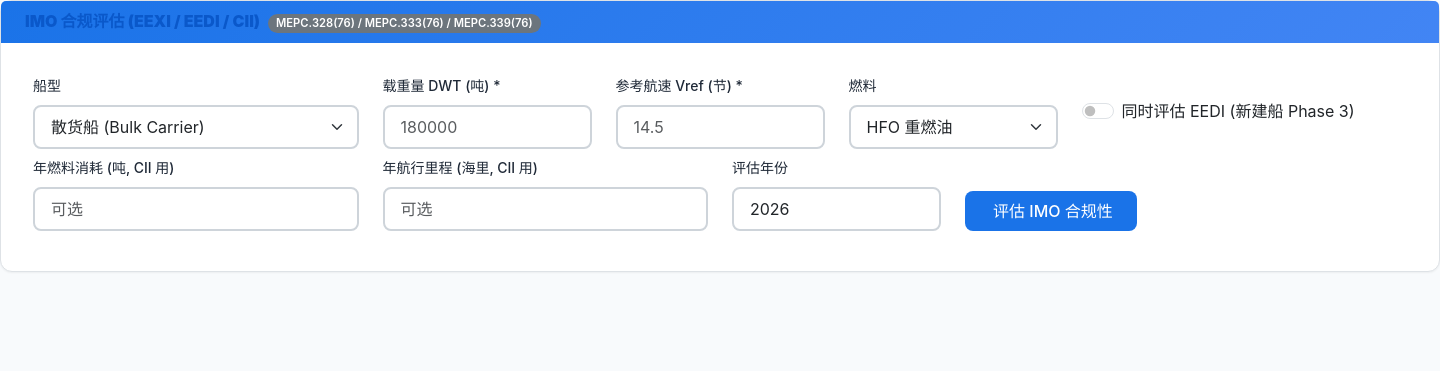
Scenario: IMOCompliancePanel › 未填必填字段时显示错误
This screenshot has width=1440, height=371.
Click the button "评估 IMO 合规性": [1051, 211] box [965,191,1137,231]
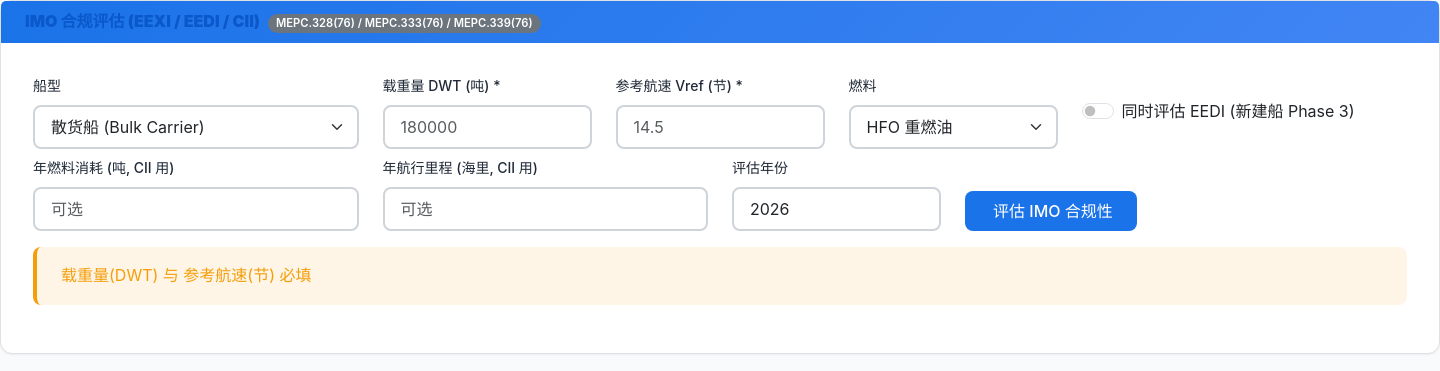
Check: the text "载重量(DWT) 与 参考航速(节) 必填" is shown, box [33,247,1407,305]
